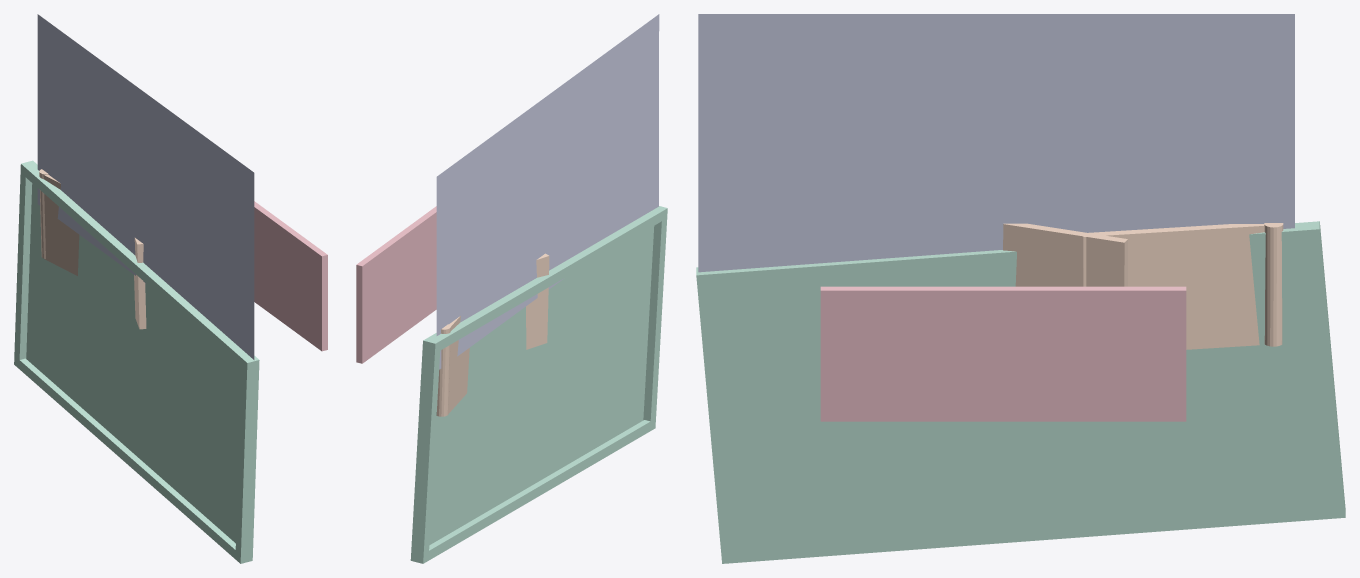
The model's file is view_input_colored.glb.
The picture shows the model from 3 angles, left to right: view 1: azimuth 30°, elevation 25°; view 2: azimuth 150°, elevation 25°; view 3: azimuth 270°, elevation 25°; orthographic projection. The views are drawn at different scales.
Visible parts, largest first — view 1: world; view 2: world; view 3: world.
Part boxes in pixels (x1,y1,x2,y2): world: (14,14,327,563); world: (356,14,667,563); world: (696,14,1345,563).
Bounding box in the file's own units: 0.2734 × 0.8236 × 0.8885.
